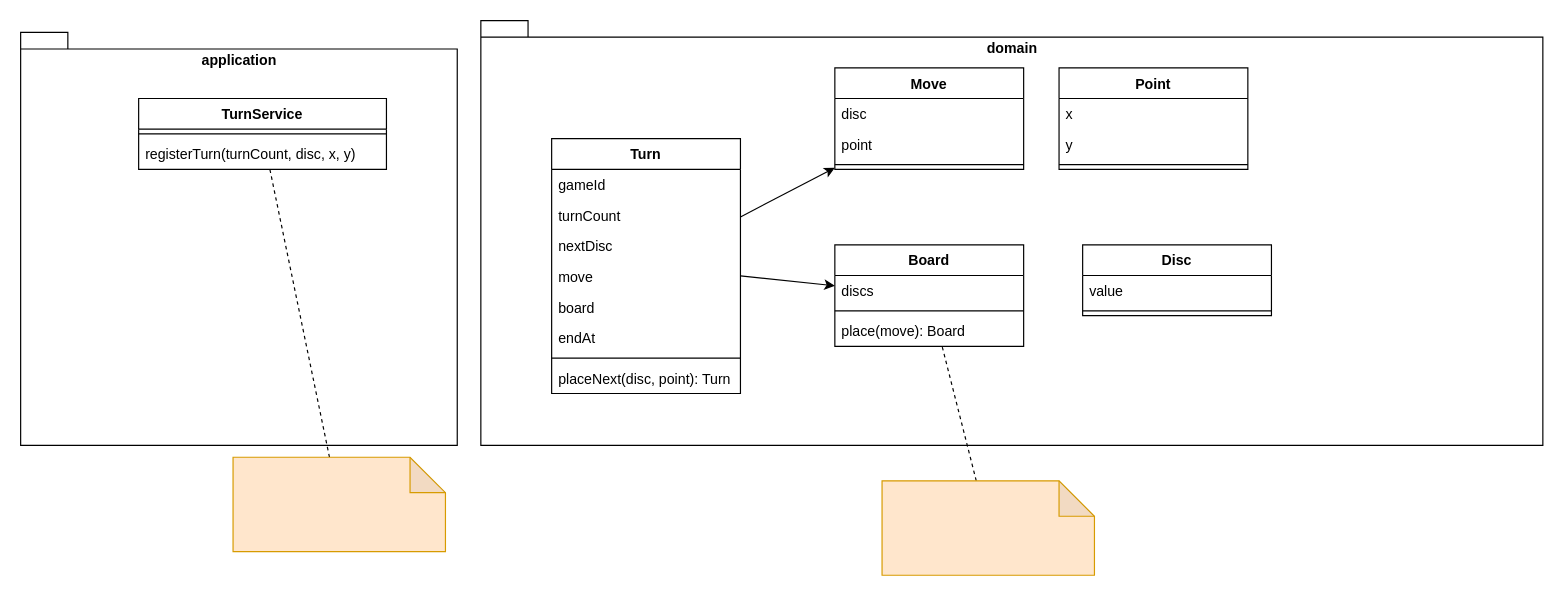
Some shapes in this 1563 by 596 pixel diagram are drawn without their labels. Each missing label, with the centre of its shape:
place()の内部では ・盤面に置けるかチェック ・石を置く ・ひっくり返す: (987,527)
・1つ前のターンを取得する ・石を置く ・ターンを保存する: (338,504)
